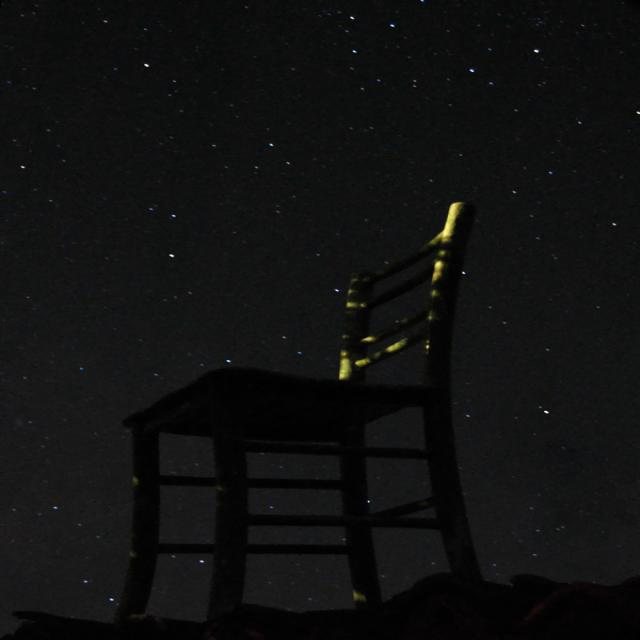chair: (39, 193, 546, 640)
